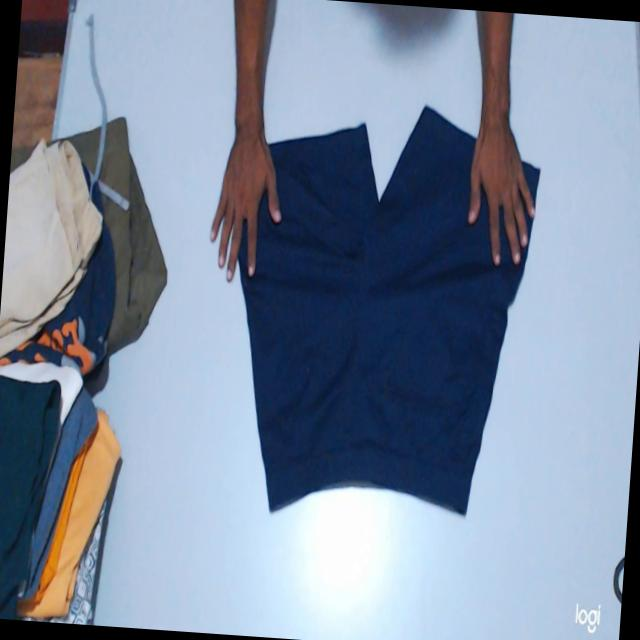new-garment: (241, 107, 527, 514)
